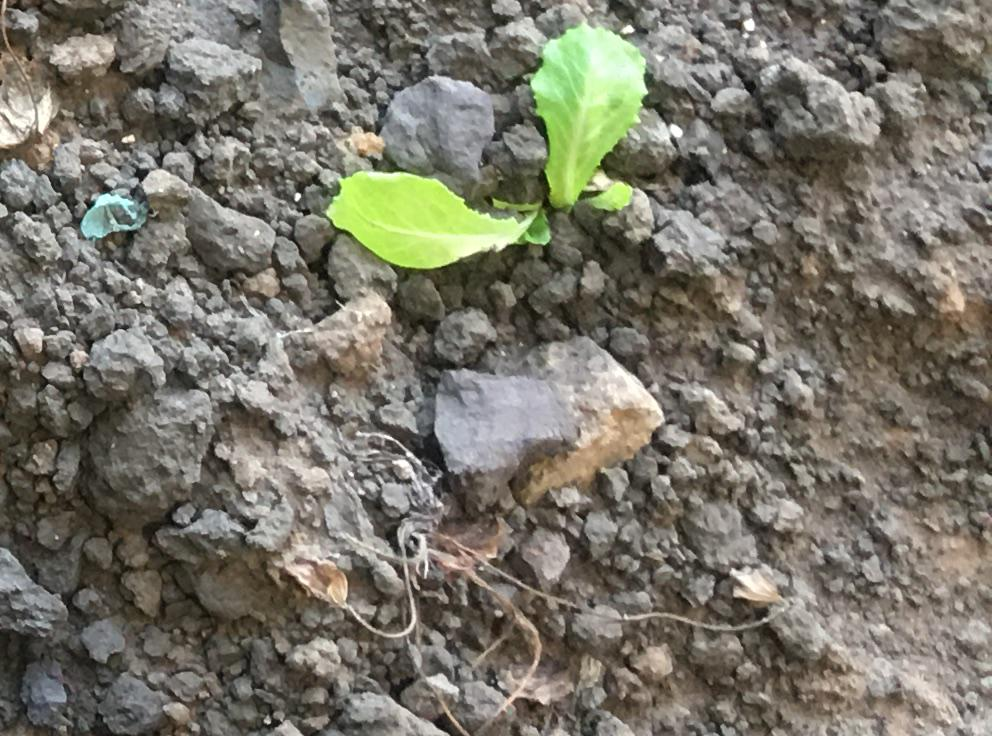block: (422, 363, 570, 492), (81, 388, 213, 530), (752, 47, 880, 163), (376, 72, 492, 199)
